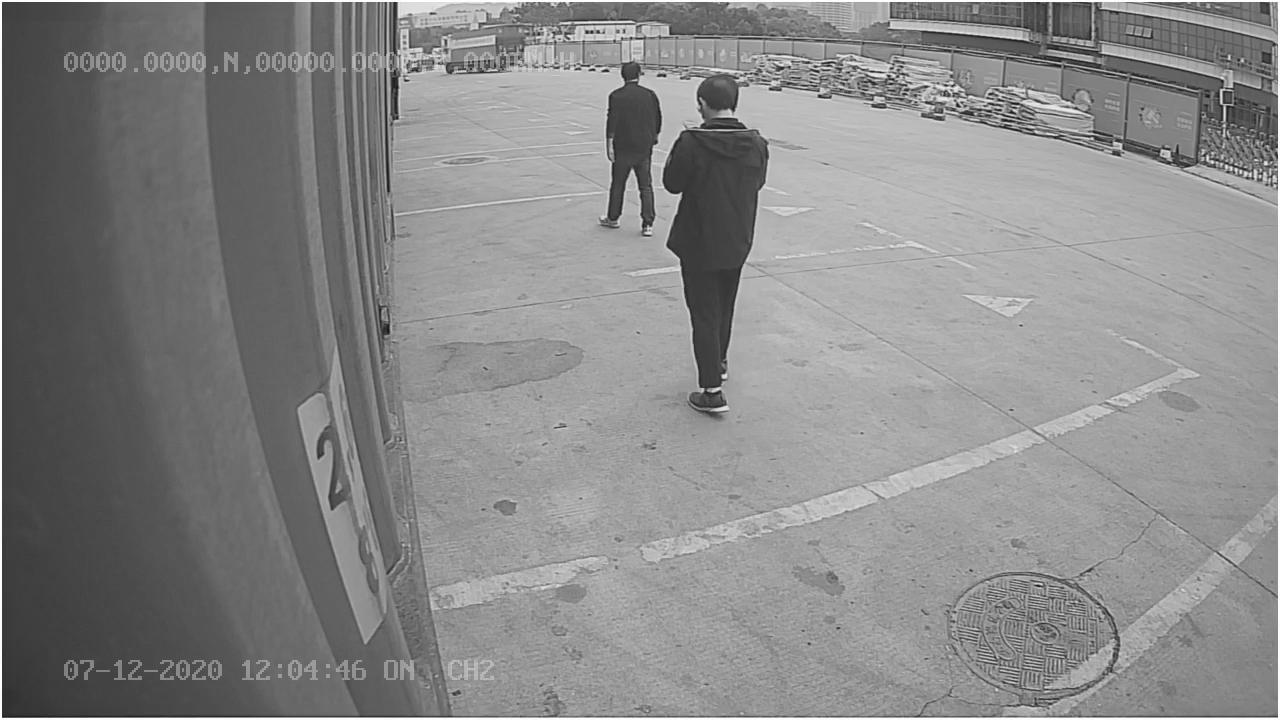person: (659, 68, 770, 423)
